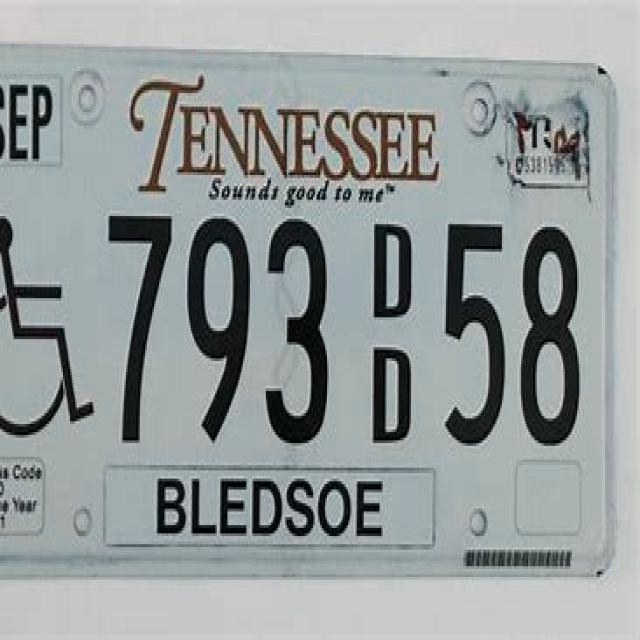ISA: (0, 214, 94, 440)
